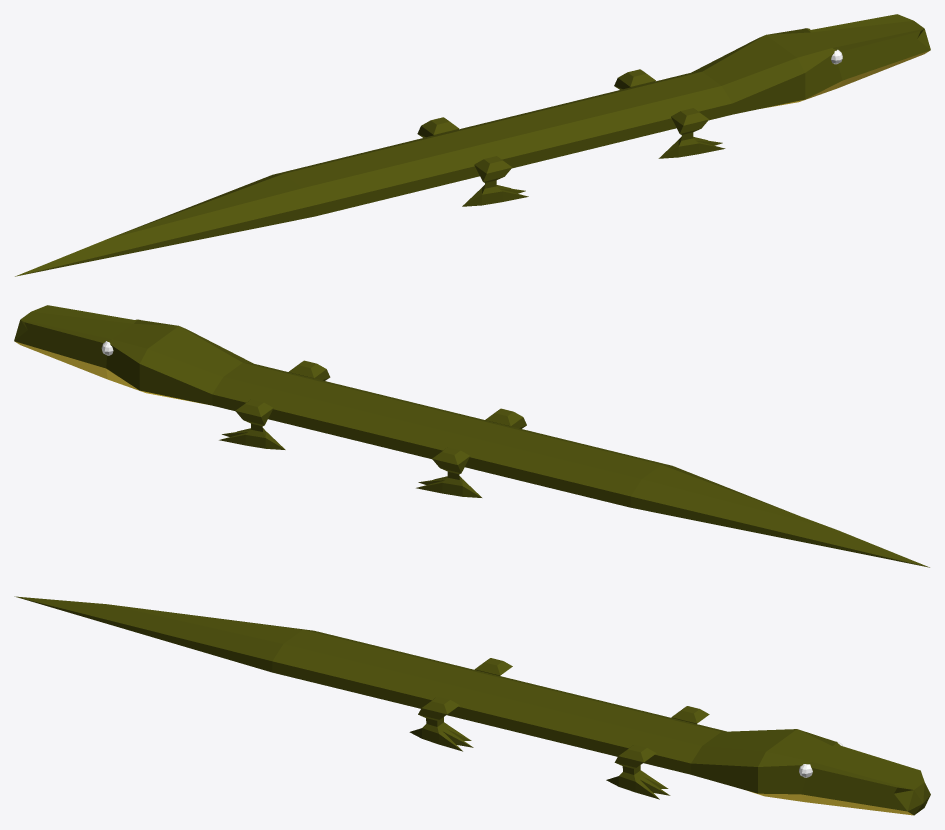
File: croc.fbx
3 views of the same model, one above another, from view 1: azimuth 30°, elevation 25°; view 2: azimuth 150°, elevation 25°; view 3: azimuth 330°, elevation 25° (orthographic).
Parts seen in each view (by area): view 1: Croc; view 2: Croc; view 3: Croc.
Boxes of the visible parts, x1,y1,x2,y2 form: Croc: (15, 14, 930, 276); Croc: (14, 305, 929, 567); Croc: (14, 596, 930, 815).
Bounding box in the file's own units: 755 × 45.06 × 95.15.
